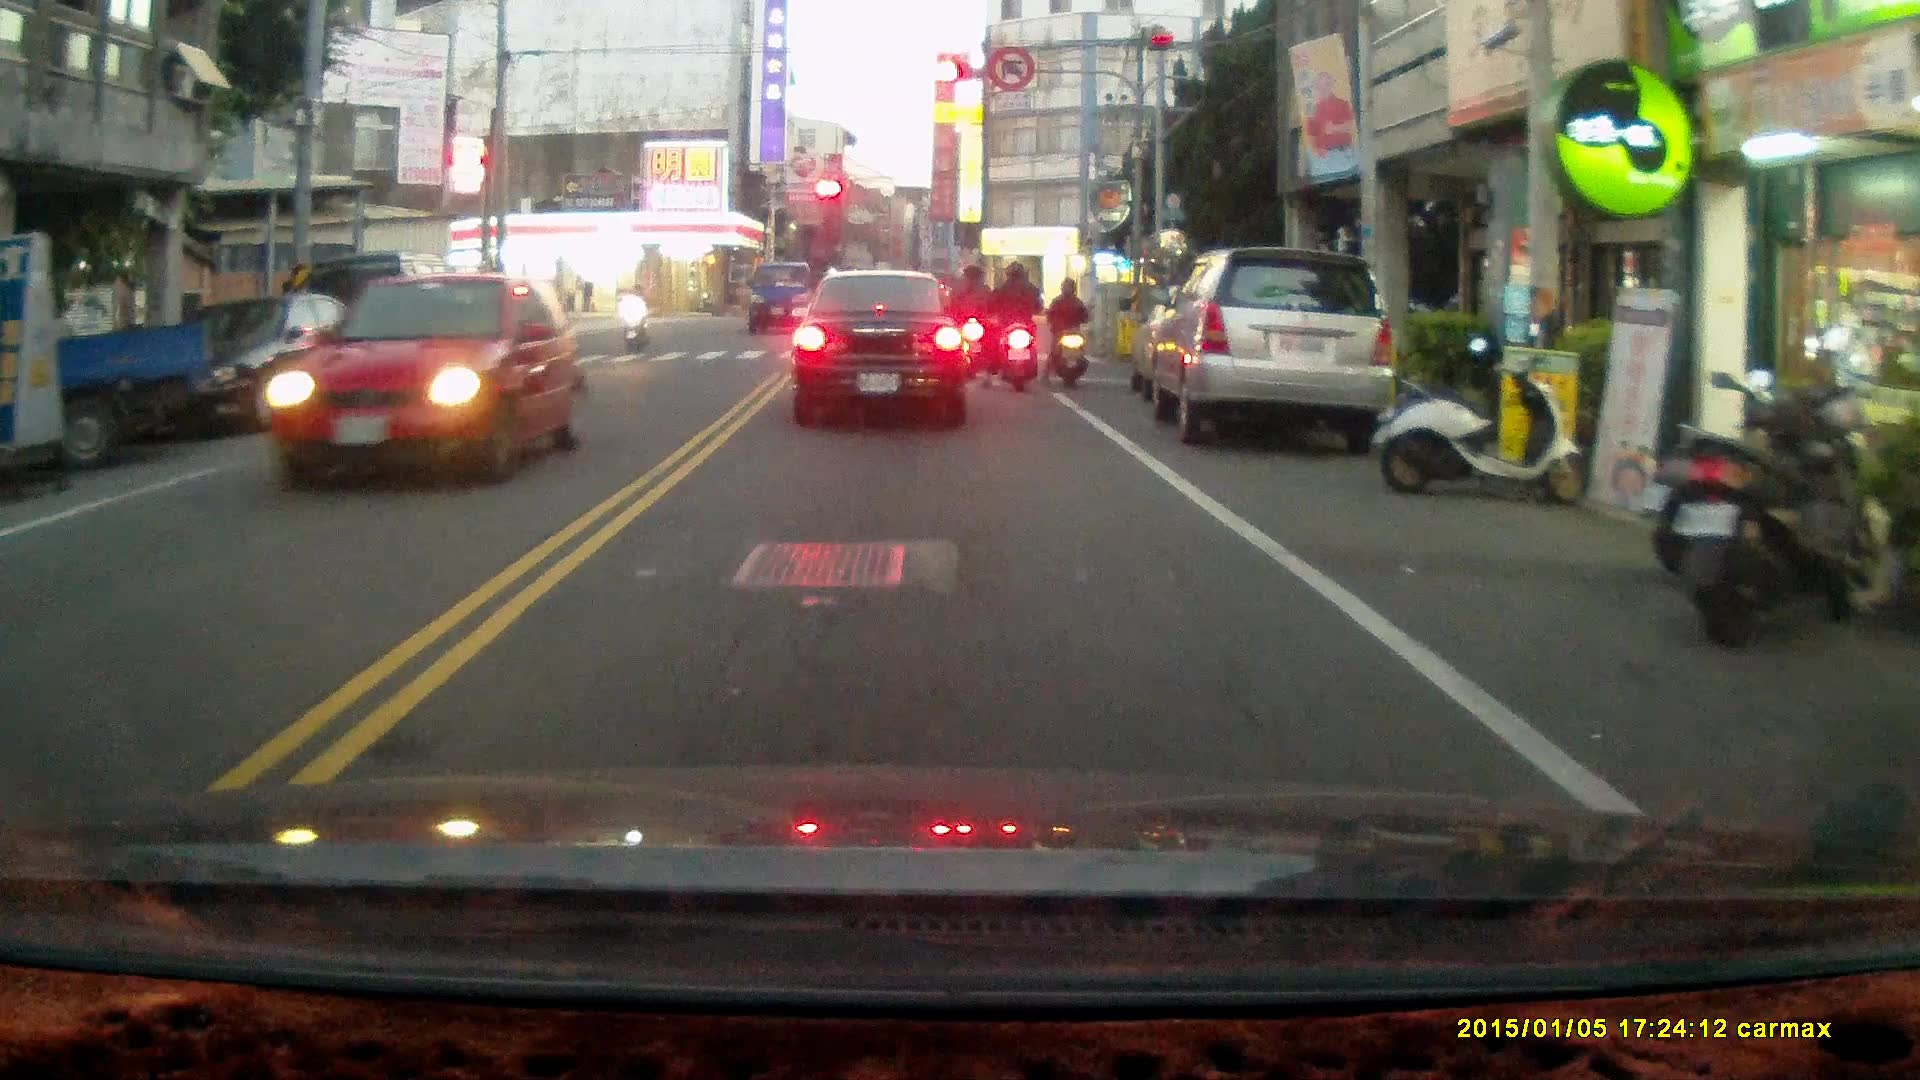rider: (982, 260, 1044, 395), (1041, 275, 1093, 390), (943, 264, 988, 381), (622, 279, 651, 355)
vehicle: (256, 272, 592, 488), (1141, 246, 1404, 450), (124, 294, 380, 433), (791, 268, 971, 429)
